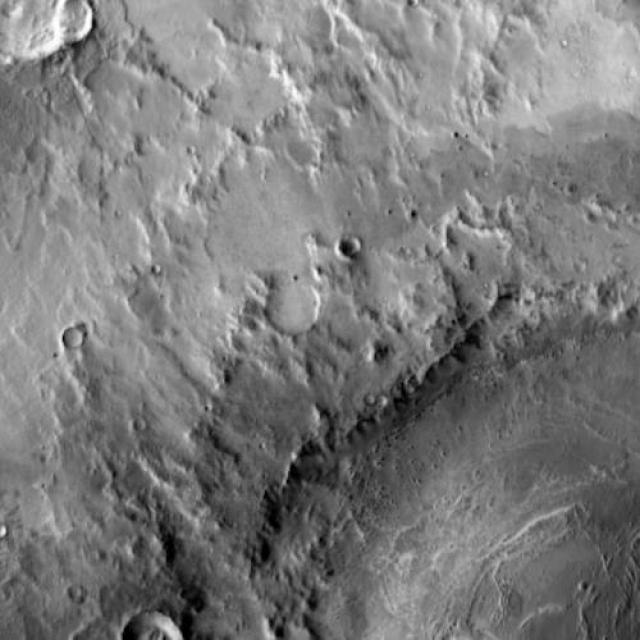crater: (0, 0, 640, 408), (258, 299, 640, 640), (0, 0, 198, 325), (0, 0, 91, 96), (0, 0, 90, 82), (0, 0, 56, 52)
